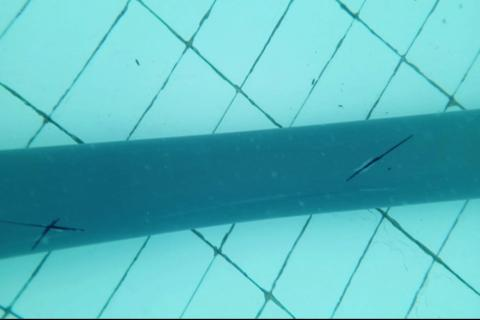keretakan: (346, 131, 415, 182), (0, 217, 87, 249)
